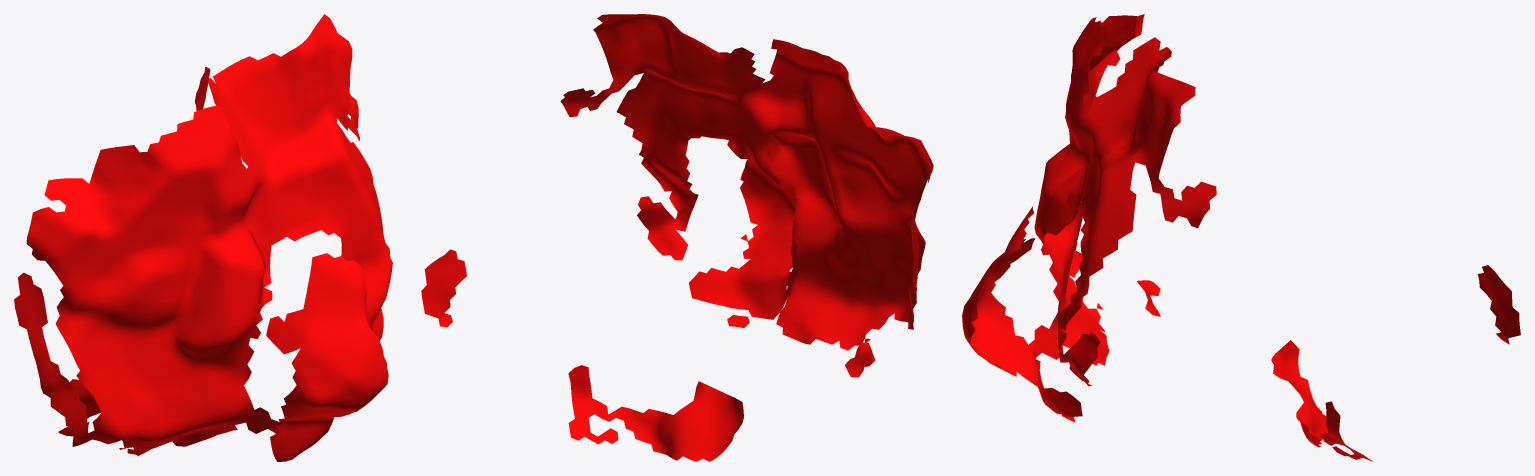
Rendered from SM_GPUI_RockBA_70.fbx.
The picture shows the model from 3 angles, left to right: view 1: azimuth 30°, elevation 25°; view 2: azimuth 150°, elevation 25°; view 3: azimuth 270°, elevation 25°; orthographic projection. The views are drawn at different scales.
Visible parts, largest first — view 1: SM_GPUI_RockBA_70; view 2: SM_GPUI_RockBA_70; view 3: SM_GPUI_RockBA_70.
Part boxes in pixels (box(x1,y1,x2,y2)): SM_GPUI_RockBA_70: box(14, 14, 392, 461); SM_GPUI_RockBA_70: box(421, 14, 933, 461); SM_GPUI_RockBA_70: box(962, 14, 1520, 461).
Size of the model in its own units: 1060 by 1117 by 1344.
